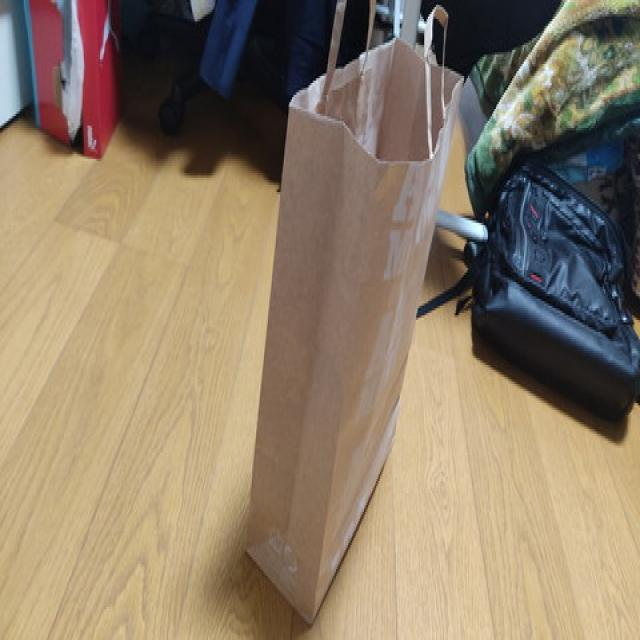paper bag: (244, 0, 463, 628)
